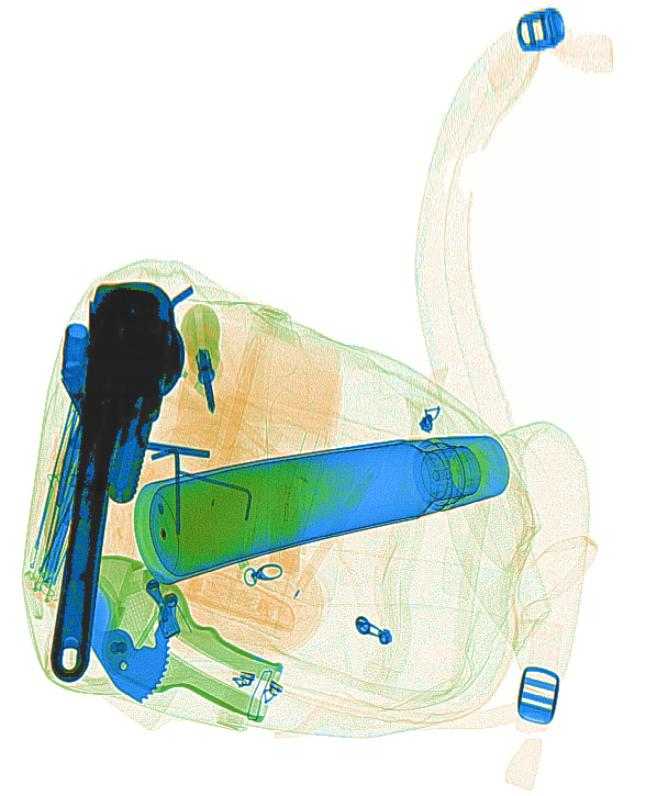plasticBottleWithaNozzle: (266, 476, 309, 580)
